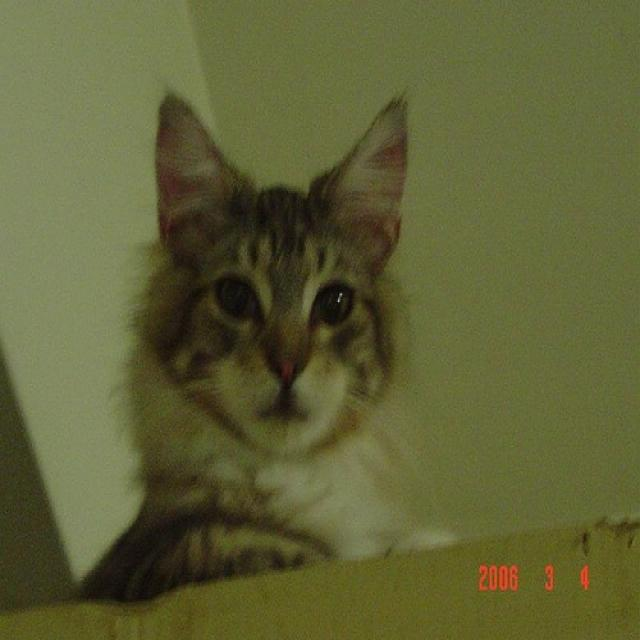cat: (93, 91, 450, 587)
